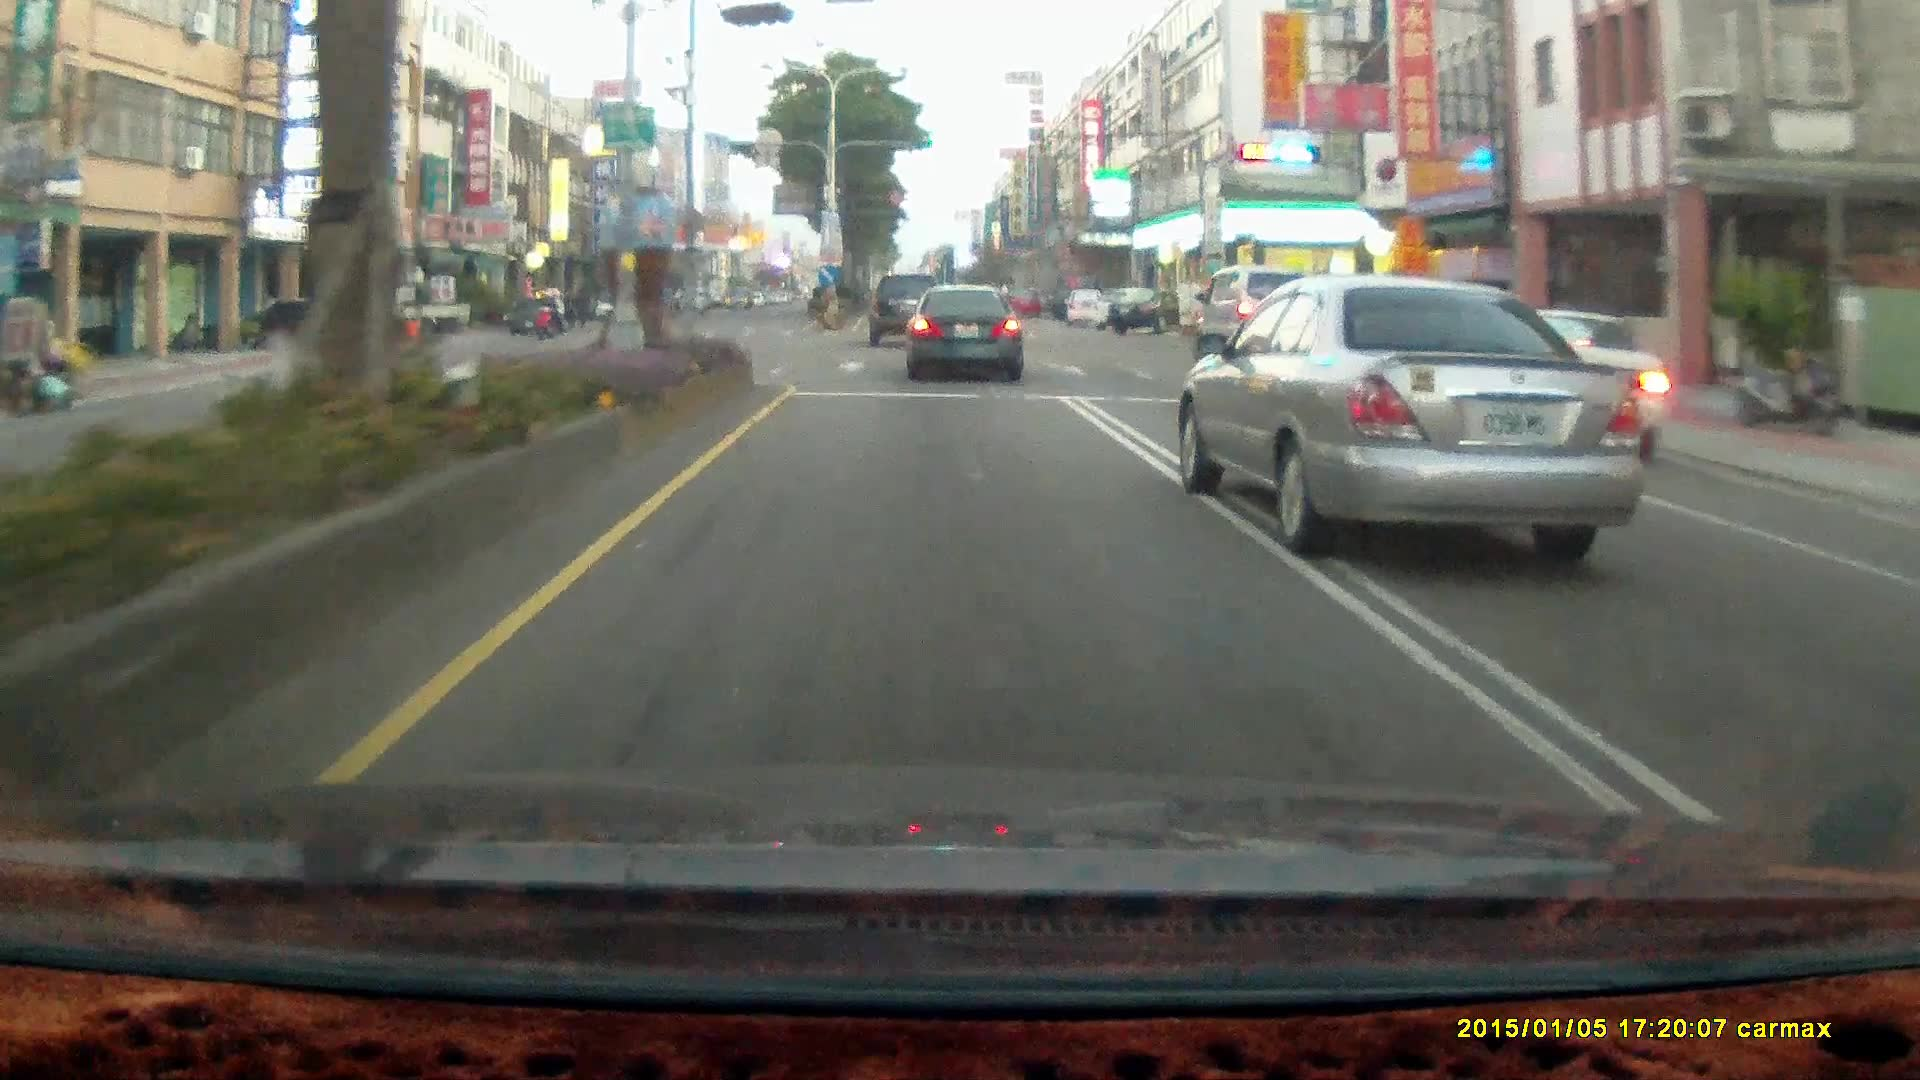rider: (533, 289, 561, 336)
vehicle: (1178, 274, 1657, 560), (1480, 309, 1675, 464), (1189, 262, 1321, 362), (1196, 267, 1327, 363), (904, 284, 1029, 382), (903, 282, 1022, 376), (244, 297, 369, 357), (366, 287, 475, 346), (867, 271, 945, 349), (355, 282, 469, 334), (869, 271, 945, 344), (1106, 286, 1191, 331), (1106, 285, 1165, 331), (505, 298, 564, 332), (1060, 285, 1107, 324), (601, 294, 637, 320)
